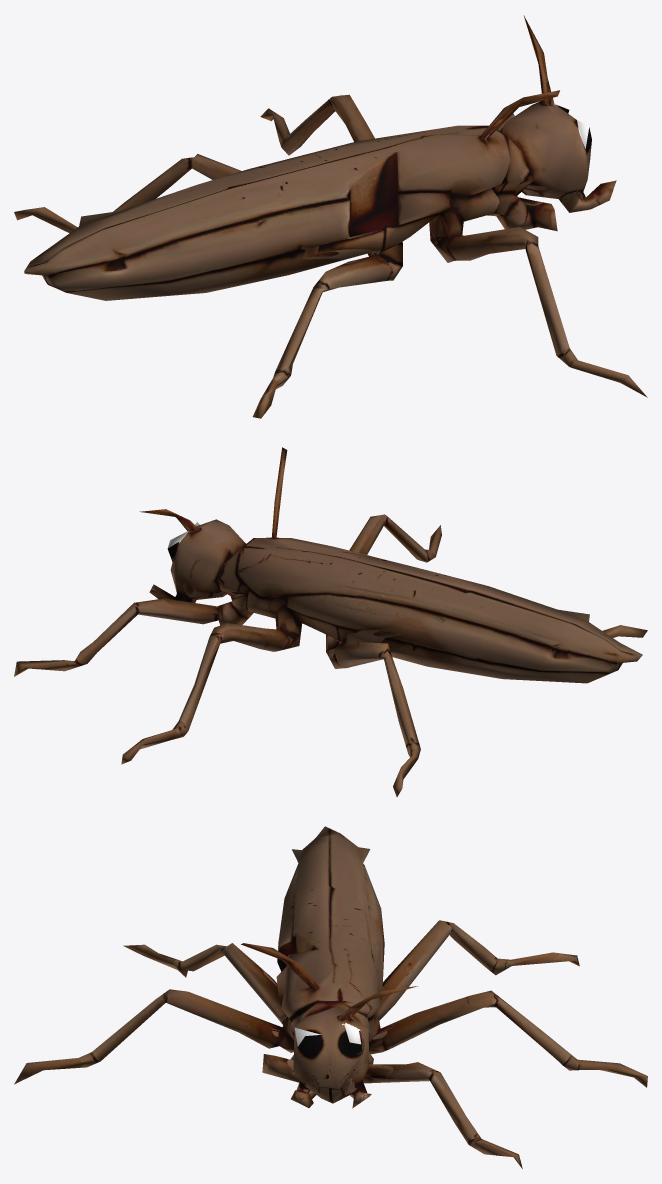
Rendered from toad-water-strider.glb.
3 views of the same model, one above another, from view 1: azimuth 30°, elevation 25°; view 2: azimuth 150°, elevation 25°; view 3: azimuth 270°, elevation 25° (orthographic). The views are drawn at different scales.
Visible parts, largest first — view 1: lo; view 2: lo; view 3: lo.
Boxes of the visible parts, x1,y1,x2,y2 form: lo: (14, 15, 647, 418); lo: (14, 447, 647, 796); lo: (14, 826, 647, 1168).
Bounding box in the file's own units: 0.039 × 0.0113 × 0.0397.
1 material, 1 textured.
